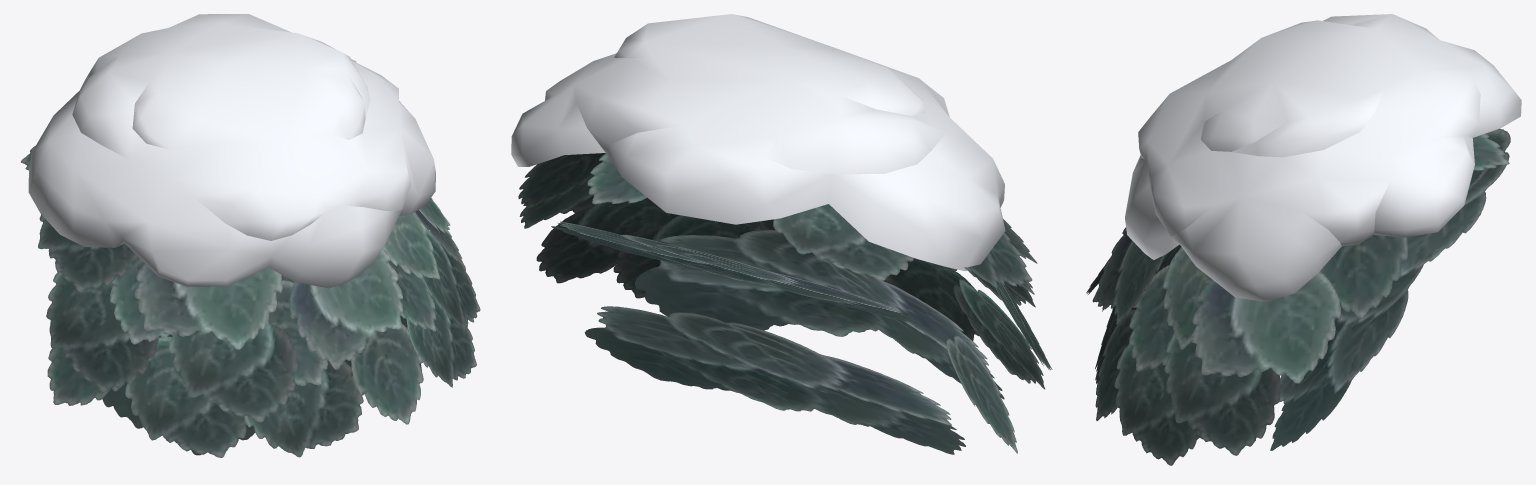
Rendered from pink-hydrangea-winter.glb.
3 renders of one model, left to right at view 1: azimuth 30°, elevation 25°; view 2: azimuth 150°, elevation 25°; view 3: azimuth 270°, elevation 25°, orthographic. The views are drawn at different scales.
Bounding box in the file's own units: 10.87 × 8.11 × 9.08.
Materials: 2 (1 with a texture image).
